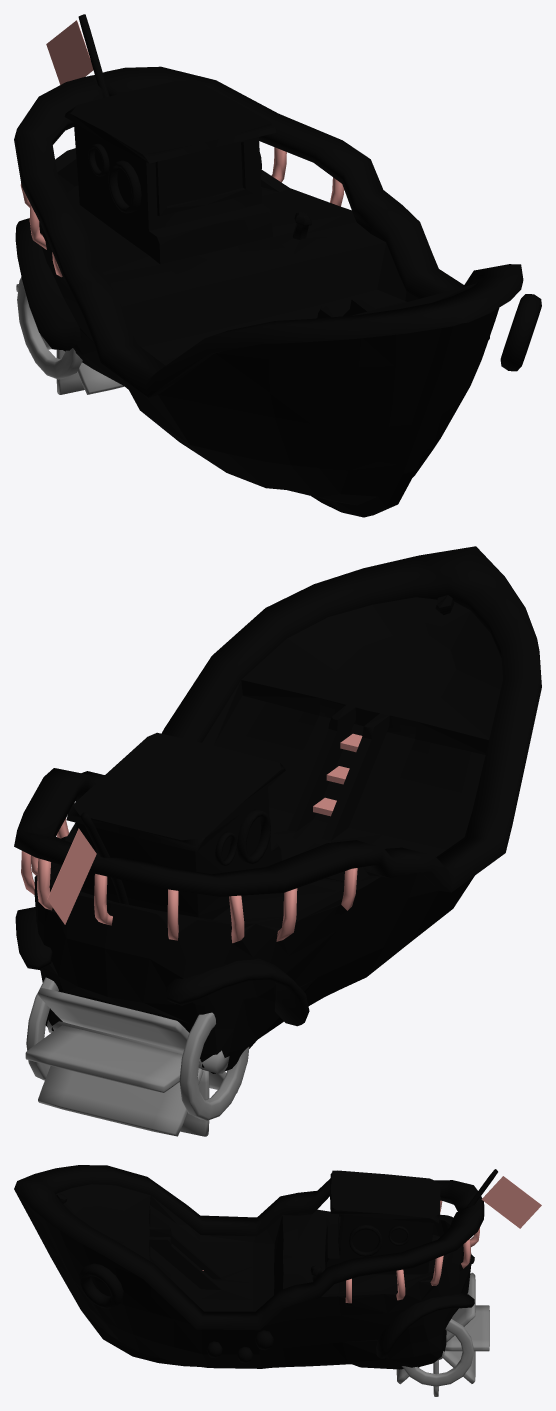
Rendered from Wheel_Boat_Test_Lp.fbx.
3 renders of one model, top to bottom at view 1: azimuth 30°, elevation 25°; view 2: azimuth 150°, elevation 25°; view 3: azimuth 270°, elevation 25°, orthographic. The views are drawn at different scales.
Visible parts, largest first — view 1: Boat_UVs_Lp, Object001; view 2: Boat_UVs_Lp, Object001; view 3: Boat_UVs_Lp, Object001.
Part boxes in pixels (bbox=[...]): Boat_UVs_Lp: bbox=[14, 14, 541, 517]; Object001: bbox=[16, 277, 124, 394]; Boat_UVs_Lp: bbox=[14, 546, 541, 1073]; Object001: bbox=[25, 977, 249, 1136]; Boat_UVs_Lp: bbox=[14, 1165, 541, 1369]; Object001: bbox=[396, 1272, 489, 1396].
Size of the model in its own units: 115 by 103 by 235.
